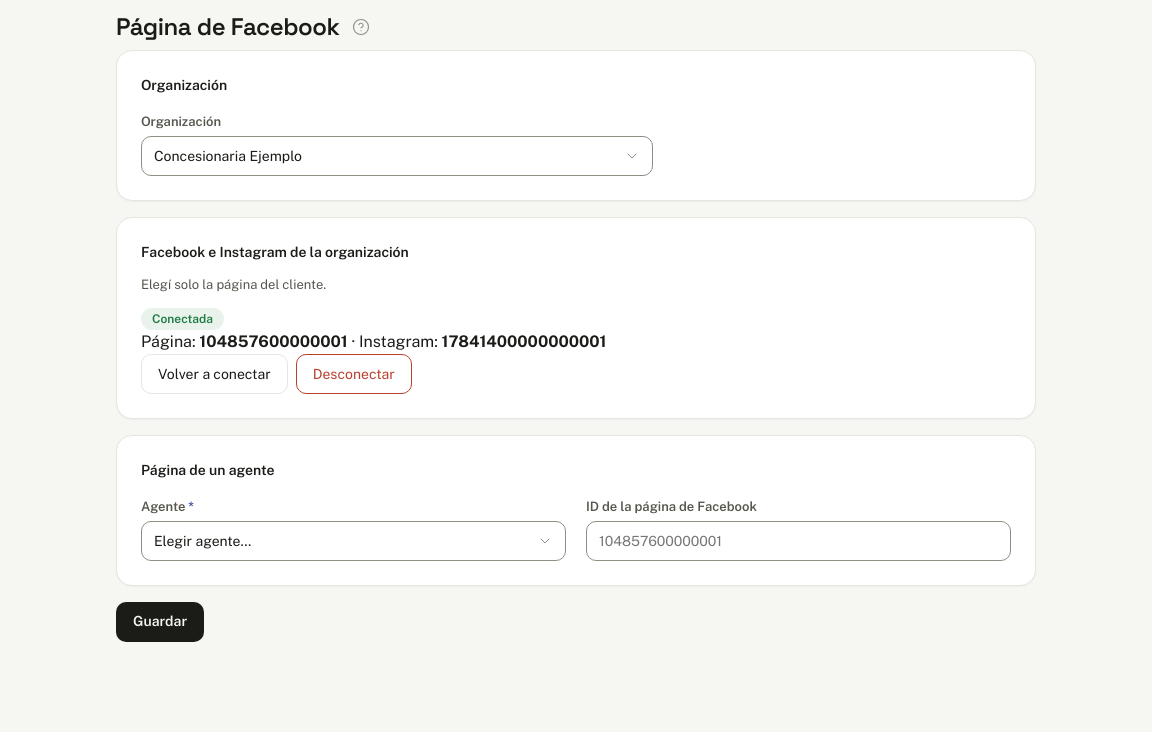
it: AgentFacebookPagePage — conexión de la organización (02/10/2026) › Desconectar pregunta antes y manda el DELETE de la organización elegida
Click the button "Desconectar" at (354,374), box [296,354,412,394]
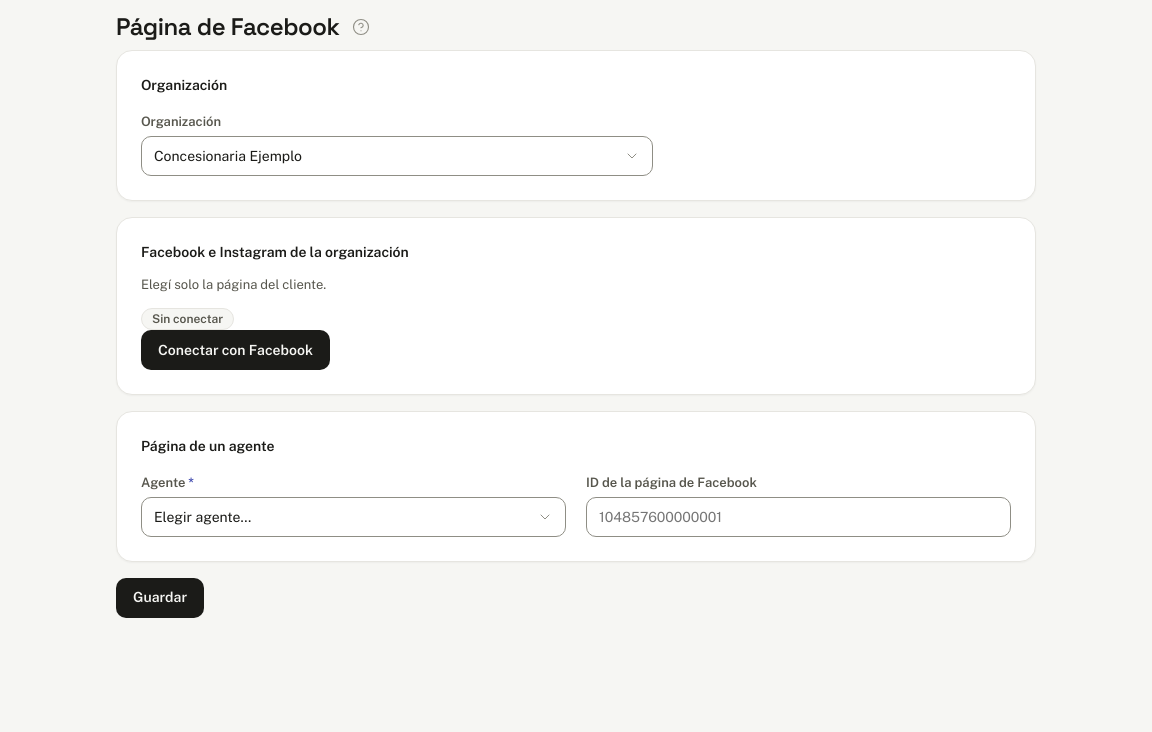
Expected: the button "Conectar con Facebook" is shown, [141,330,330,370]
